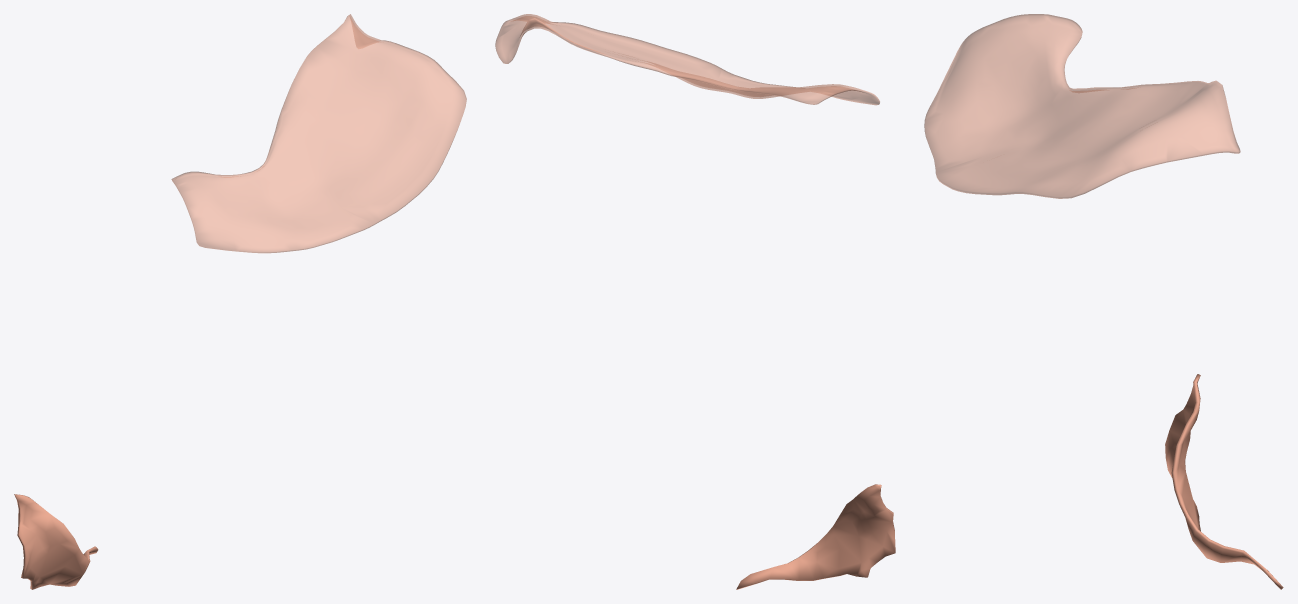
Rendered from visceras-mesocolon.glb.
3 views of the same model, side by side, from view 1: azimuth 30°, elevation 25°; view 2: azimuth 150°, elevation 25°; view 3: azimuth 270°, elevation 25° (orthographic). The views are drawn at different scales.
Visible parts, largest first — view 1: Mesocolon, Meso-appendix; view 2: Mesocolon, Meso-appendix; view 3: Mesocolon, Meso-appendix.
Part boxes in pixels (box(x1,y1,x2,y2)): Mesocolon: box(171, 14, 466, 253); Meso-appendix: box(14, 494, 98, 589); Mesocolon: box(495, 14, 879, 105); Meso-appendix: box(736, 484, 895, 589); Mesocolon: box(924, 14, 1240, 198); Meso-appendix: box(1165, 374, 1283, 589).
Size of the model in its own units: 0.172 by 0.2004 by 0.0997.
